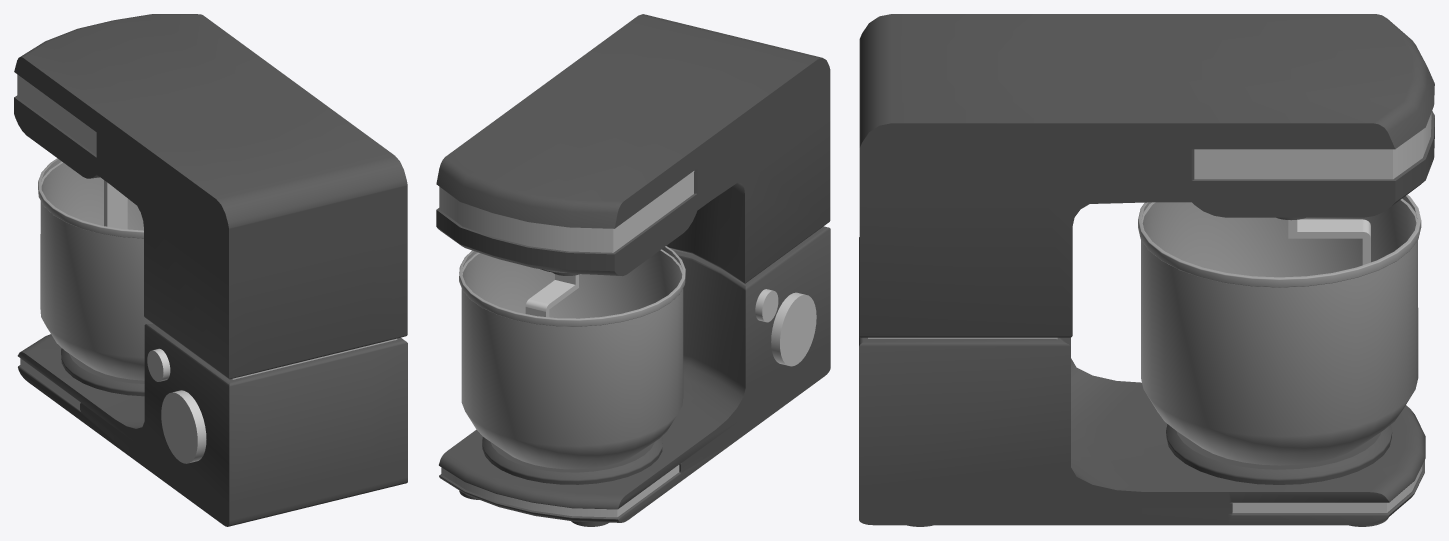
File: mixer.fbx
The picture shows the model from 3 angles, left to right: view 1: azimuth 30°, elevation 25°; view 2: azimuth 150°, elevation 25°; view 3: azimuth 270°, elevation 25°; orthographic projection. The views are drawn at different scales.
Visible parts, largest first — view 1: Cube.001, Cube, Circle, Cylinder.001, Cylinder.007, Cube.002, Cylinder.002; view 2: Cube.001, Circle, Cube, Cylinder.007, Cylinder.001, Cube.002, Cylinder.002; view 3: Cube.001, Cube, Circle, Cylinder.007, Cube.002.
Part boxes in pixels (box(x1,y1,x2,y2)): Cube.001: box(14, 14, 407, 379); Cube: box(17, 324, 407, 526); Circle: box(38, 158, 153, 380); Cylinder.001: box(161, 390, 206, 463); Cylinder.007: box(61, 348, 144, 396); Cube.002: box(104, 180, 127, 229); Cylinder.002: box(147, 348, 170, 381); Cube.001: box(436, 14, 830, 283); Circle: box(459, 246, 685, 469); Cube: box(439, 226, 830, 522); Cylinder.007: box(482, 436, 662, 484); Cylinder.001: box(771, 292, 816, 366); Cube.002: box(525, 274, 578, 317); Cylinder.002: box(755, 289, 778, 322); Cube.001: box(859, 14, 1434, 339); Cube: box(859, 237, 1425, 525); Circle: box(1138, 195, 1421, 465); Cylinder.007: box(1166, 424, 1392, 484); Cube.002: box(1288, 219, 1370, 264).
Size of the model in its own units: 219 by 351 by 445.
1 material, 1 textured.
